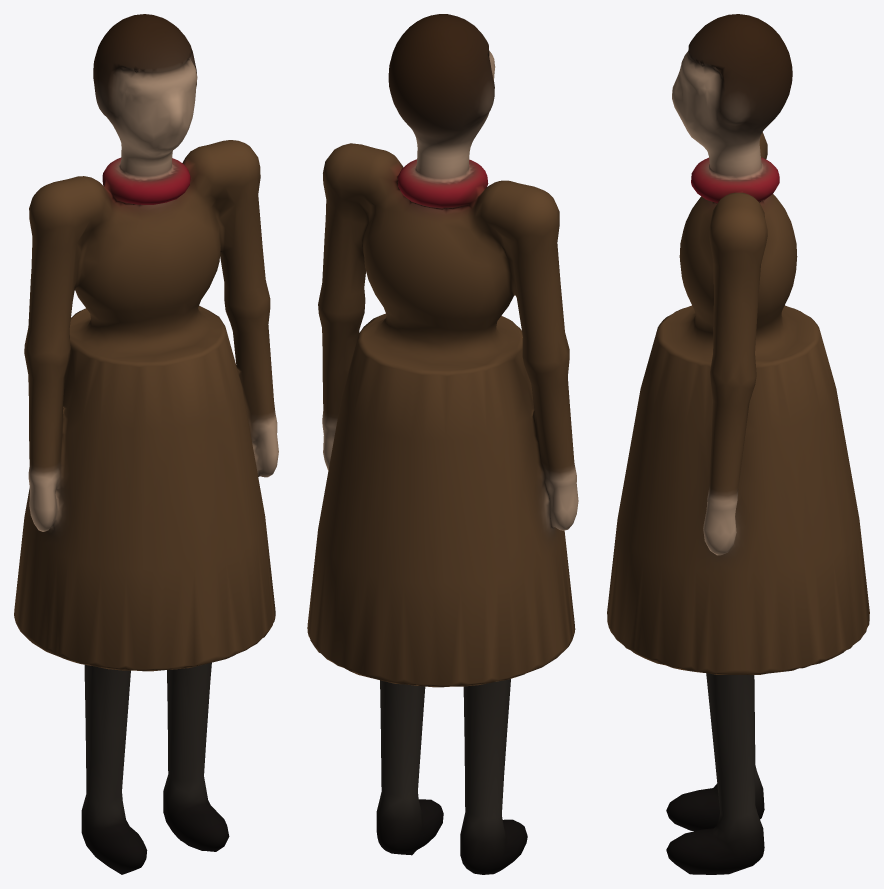
File: lumiere-npc-patron-m2.glb
3 views of the same model, side by side, from view 1: azimuth 30°, elevation 25°; view 2: azimuth 150°, elevation 25°; view 3: azimuth 270°, elevation 25° (orthographic). The views are drawn at different scales.
Parts seen in each view (by area): view 1: lumiere-npc-patron-m2_LOD0; view 2: lumiere-npc-patron-m2_LOD0; view 3: lumiere-npc-patron-m2_LOD0.
Boxes of the visible parts, x1=… form: lumiere-npc-patron-m2_LOD0: x1=14, y1=14, x2=278, y2=874; lumiere-npc-patron-m2_LOD0: x1=307, y1=14, x2=578, y2=874; lumiere-npc-patron-m2_LOD0: x1=607, y1=14, x2=869, y2=874.
Size of what is drawn, in the model's own units: 0.5438 by 1.76 by 0.5028.
